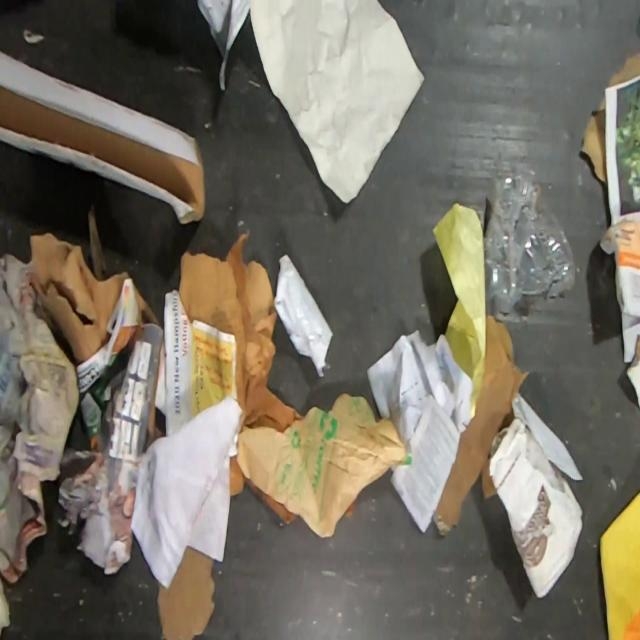cardboard: (0, 50, 205, 224), (432, 314, 529, 537), (488, 417, 584, 598), (28, 231, 130, 362), (177, 249, 246, 396), (156, 544, 215, 640), (134, 286, 161, 327), (229, 454, 244, 497)
rigid_plastic: (483, 173, 576, 323)
soft_plastic: (596, 217, 640, 364)
